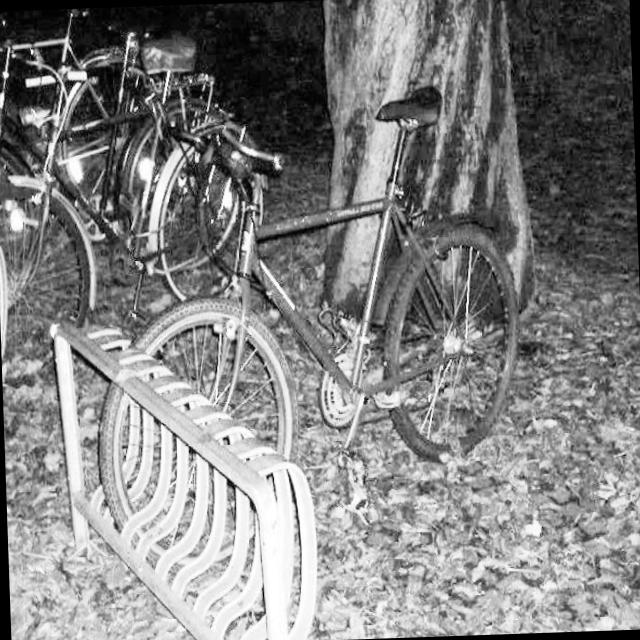Bicycle: (138, 154, 596, 539), (0, 35, 321, 420), (0, 2, 266, 213)
